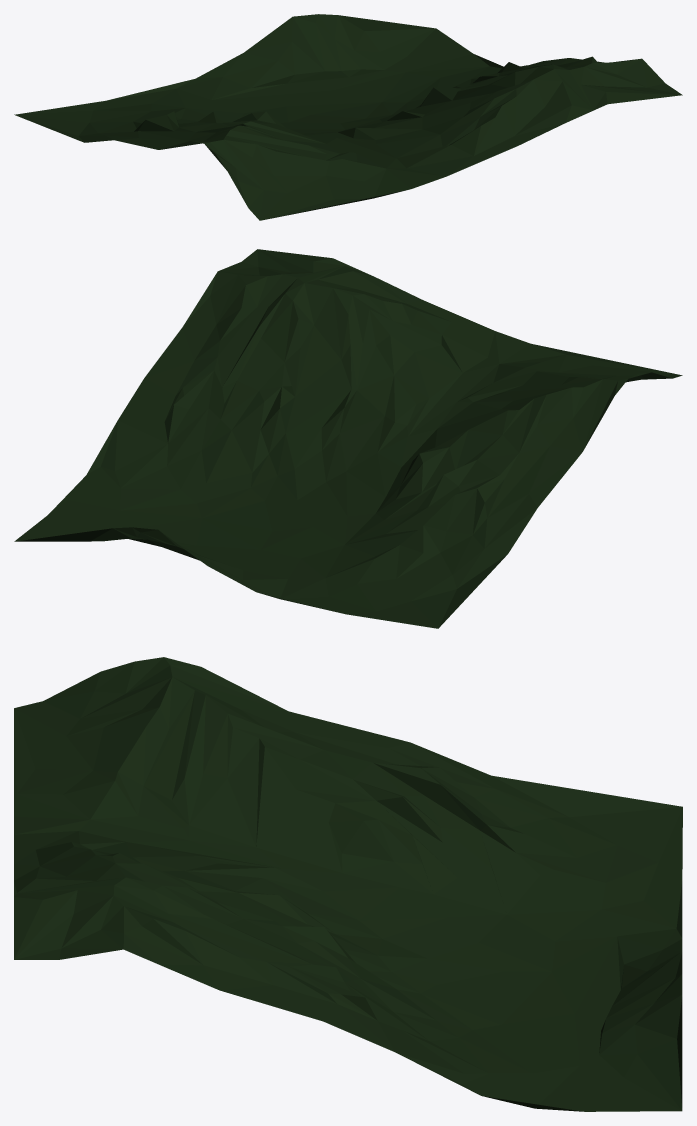
The model's file is SM_terrain_02.fbx.
3 views of the same model, one above another, from view 1: azimuth 30°, elevation 25°; view 2: azimuth 150°, elevation 25°; view 3: azimuth 270°, elevation 25° (orthographic). The views are drawn at different scales.
Parts seen in each view (by area): view 1: terrain_02; view 2: terrain_02; view 3: terrain_02.
Part boxes in pixels (x1,y1,x2,y2): terrain_02: (14,14,682,220); terrain_02: (14,249,682,628); terrain_02: (14,657,682,1111).
Bounding box in the file's own units: 7764 × 2258 × 7749.
